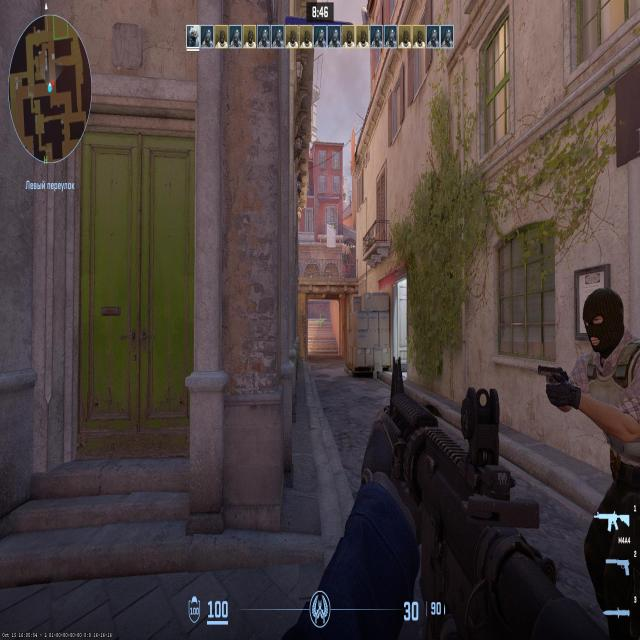T: (583, 303, 638, 505)
T_heat: (591, 305, 613, 350)
